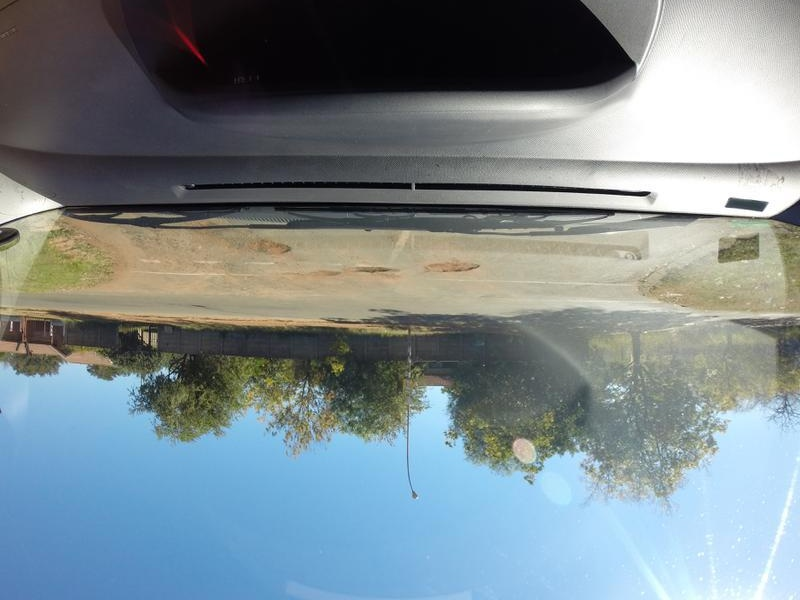pothole: (243, 232, 305, 266), (428, 253, 494, 281), (292, 262, 342, 284), (349, 260, 399, 280)
